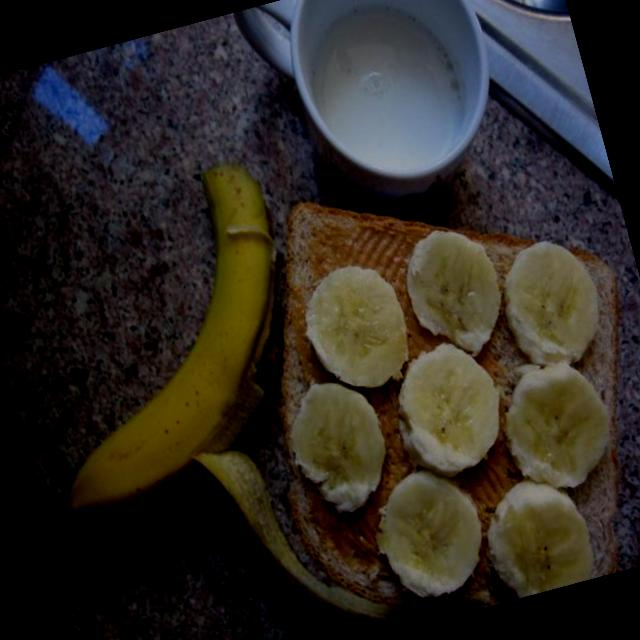Banana: (0, 150, 351, 551)
